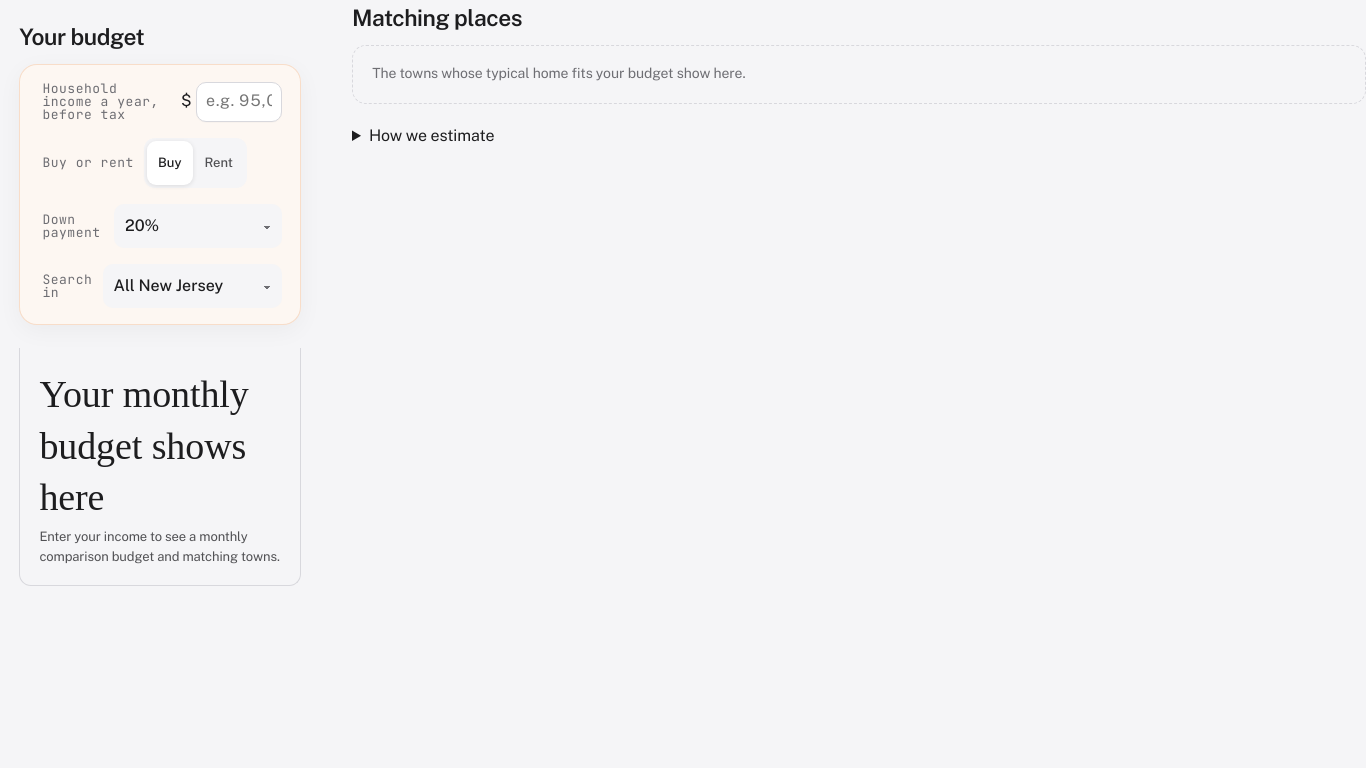
preserves the chosen mode without introducing income into a new URL
The width and height of the screenshot is (1366, 768).
Type "100000" into the field labelled "Household income a year, before tax $" at (239, 102), box x1=196 y1=82 x2=282 y2=122
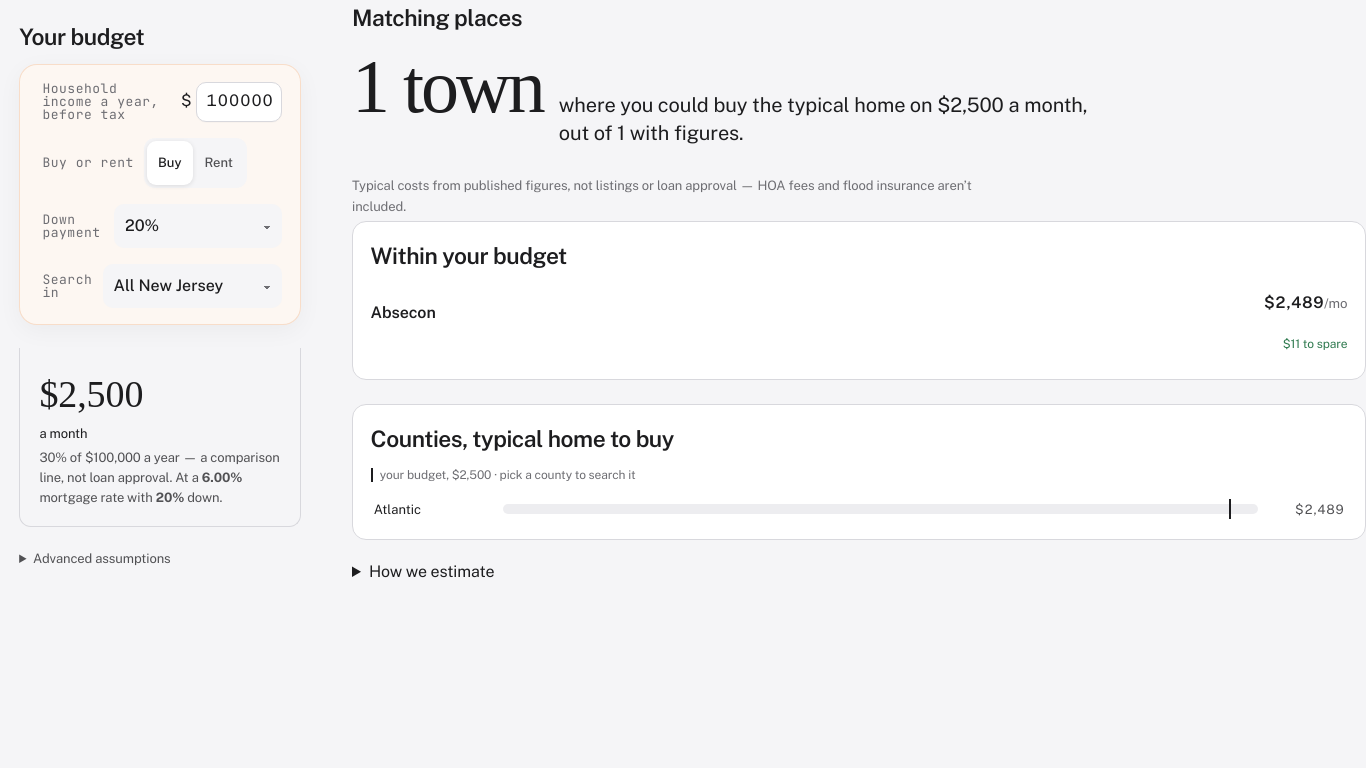
Click the radio button labelled "Rent" at (219, 163), box x1=193 y1=141 x2=244 y2=185
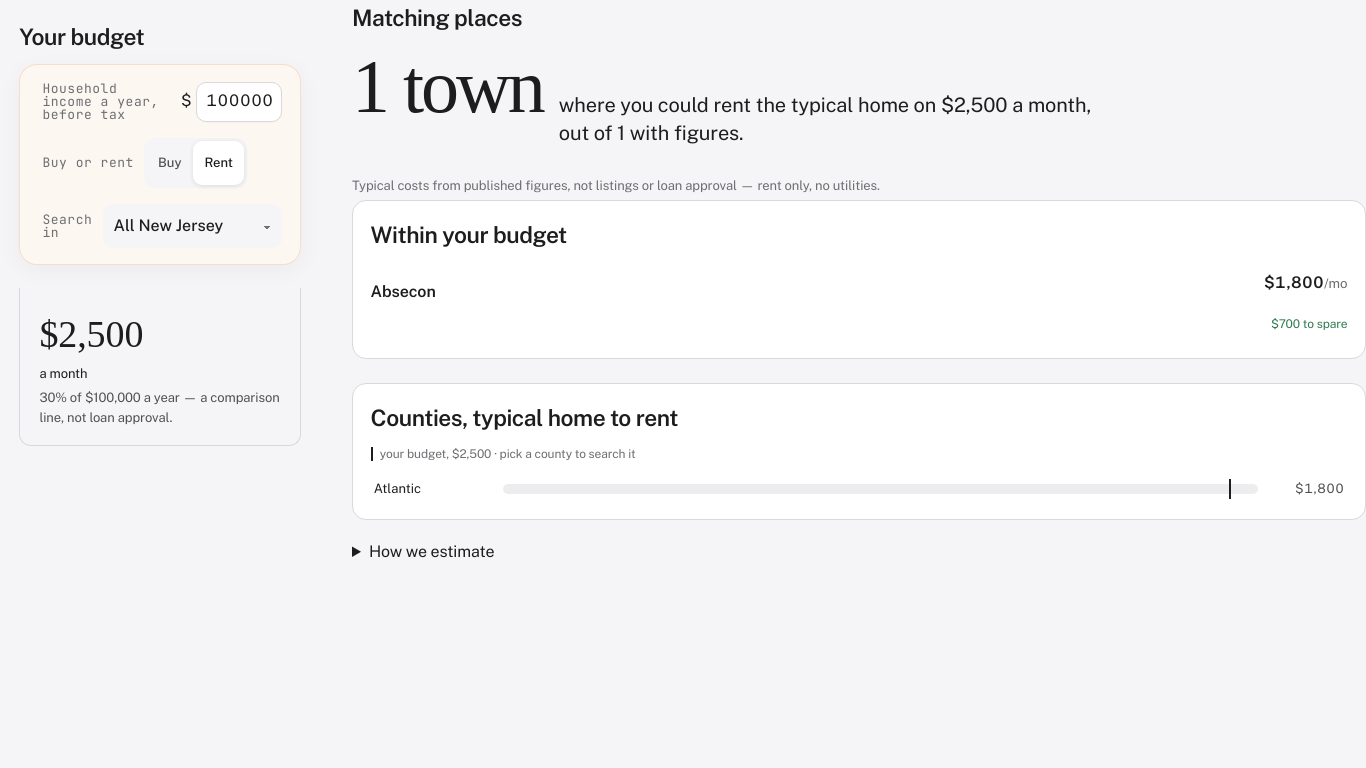
Expected: the heading "Advanced assumptions" is gone
